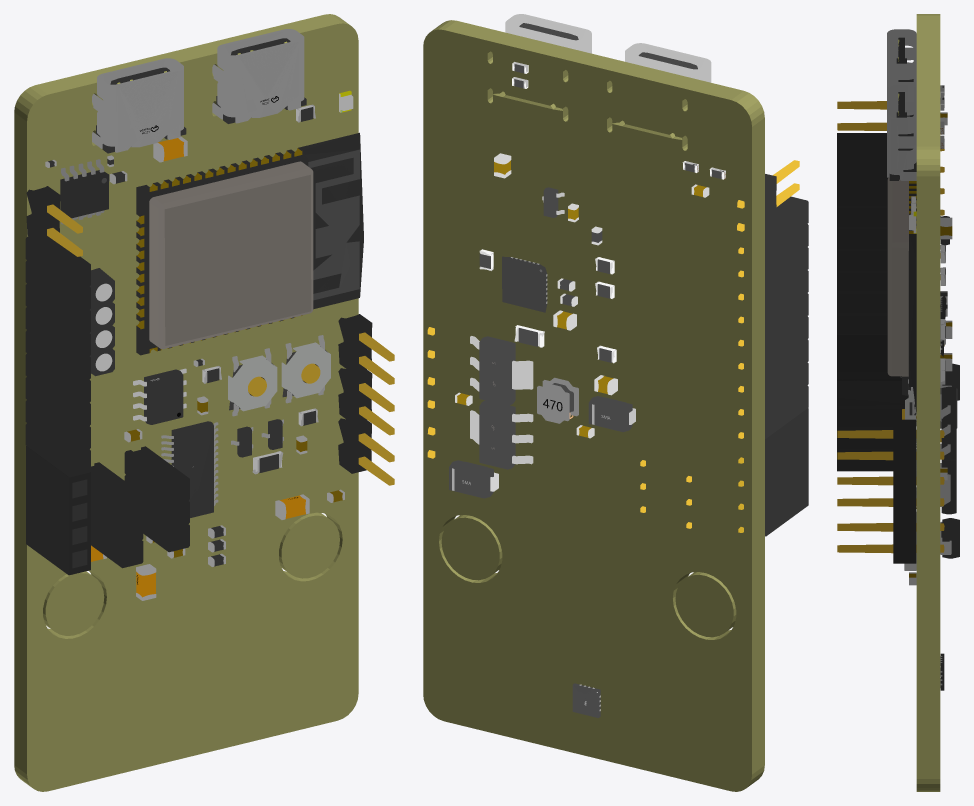
The model's file is OBJ_PCB_SCore SR1.obj.
The picture shows the model from 3 angles, left to right: view 1: azimuth 30°, elevation 25°; view 2: azimuth 150°, elevation 25°; view 3: azimuth 270°, elevation 25°; orthographic projection. The views are drawn at different scales.
Size of the model in its own units: 150 by 302 by 51.73.
